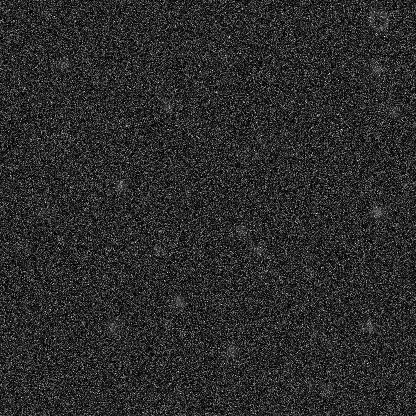Ring: (366, 8, 390, 32)
Spot: (305, 323, 321, 339), (33, 205, 49, 221), (15, 338, 31, 354), (104, 319, 120, 335), (151, 242, 167, 258), (170, 293, 186, 309), (386, 104, 402, 120), (318, 381, 334, 397), (368, 204, 384, 220), (368, 60, 384, 76), (97, 137, 113, 153), (249, 241, 265, 257), (54, 55, 70, 71), (112, 176, 128, 192), (361, 318, 377, 334), (253, 133, 269, 149), (224, 342, 240, 358), (232, 222, 248, 238), (159, 98, 175, 114), (216, 46, 232, 62)
